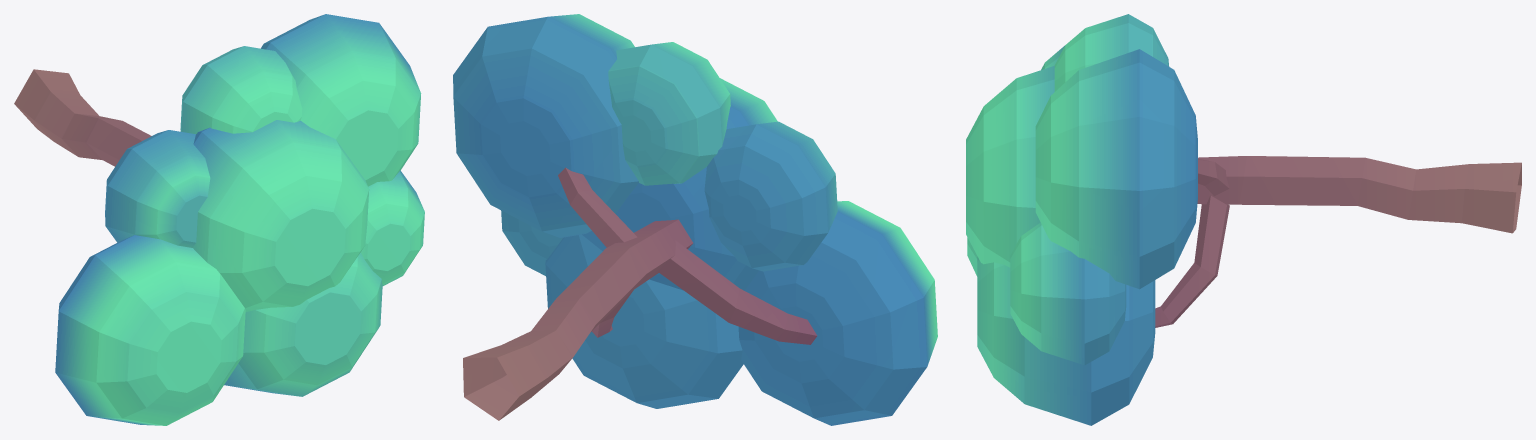
Rendered from tree1.glb.
The picture shows the model from 3 angles, left to right: view 1: azimuth 30°, elevation 25°; view 2: azimuth 150°, elevation 25°; view 3: azimuth 270°, elevation 25°; orthographic projection. The views are drawn at different scales.
Parts seen in each view (by area): view 1: Object_6; view 2: Object_6; view 3: Object_6.
Boxes of the visible parts, x1,y1,x2,y2 form: Object_6: [14, 14, 424, 425]; Object_6: [453, 14, 937, 425]; Object_6: [966, 14, 1521, 425].
Bounding box in the file's own units: 13.85 × 11.78 × 15.18.
1 material, 1 textured.
